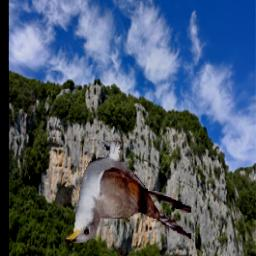Cuckoo: (64, 139, 191, 244)
